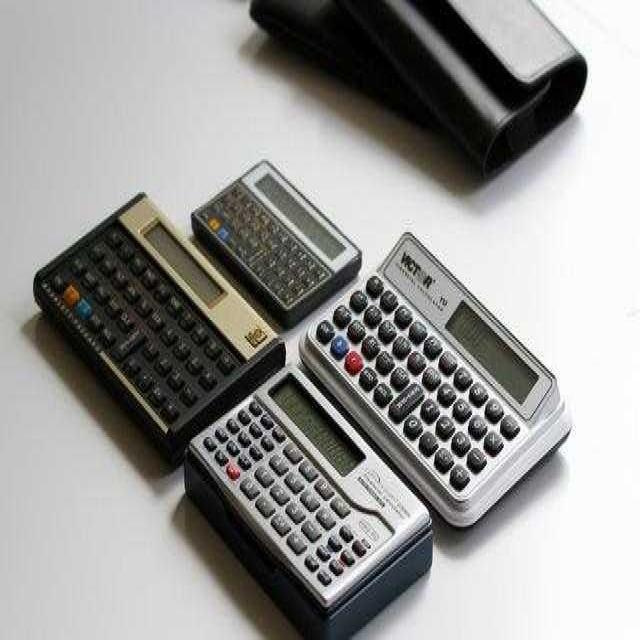Calculator: (298, 229, 572, 530), (183, 360, 433, 638), (32, 188, 256, 491), (190, 157, 362, 329)
